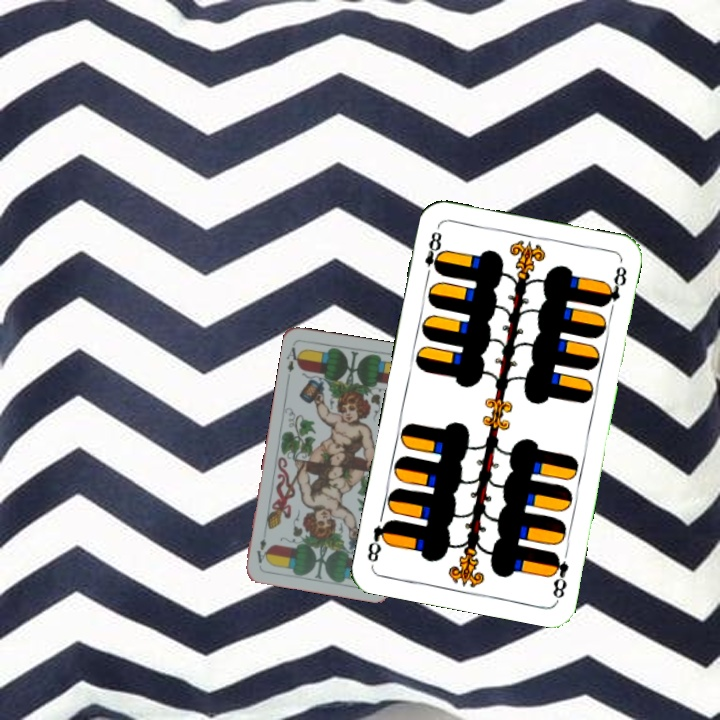E8: (420, 227, 446, 282), (546, 548, 571, 603)
EA: (283, 343, 304, 375)
